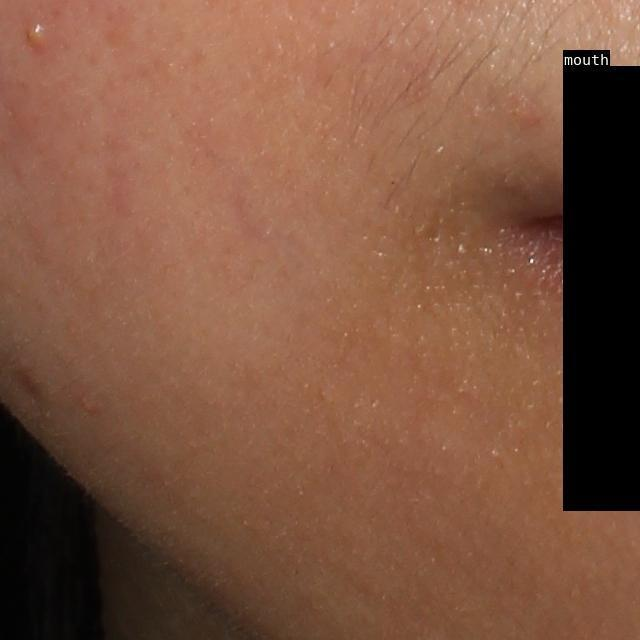pustule: (24, 20, 50, 50)
